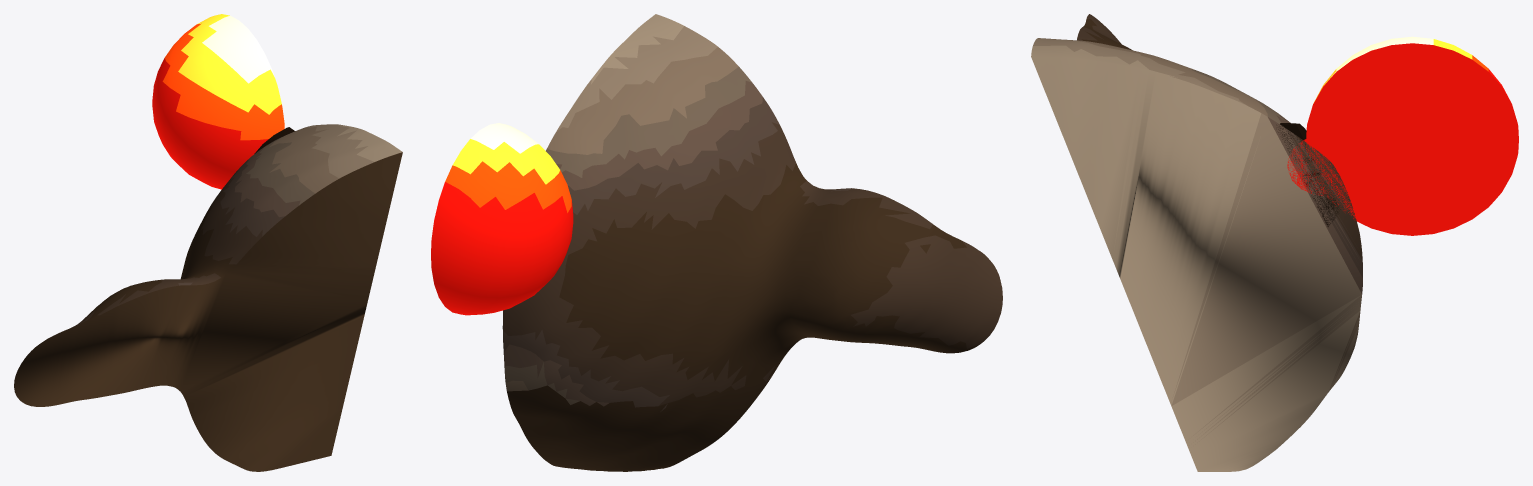
File: tan_dome_203.glb
3 views of the same model, side by side, from view 1: azimuth 30°, elevation 25°; view 2: azimuth 150°, elevation 25°; view 3: azimuth 270°, elevation 25° (orthographic). The views are drawn at different scales.
Parts seen in each view (by area): view 1: tan_dome_203; view 2: tan_dome_203; view 3: tan_dome_203.
Part boxes in pixels (bbox=[...]): tan_dome_203: bbox=[14, 14, 402, 471]; tan_dome_203: bbox=[431, 14, 1002, 471]; tan_dome_203: bbox=[1031, 14, 1518, 471].
Bounding box in the file's own units: 16.88 × 16.71 × 17.23.
